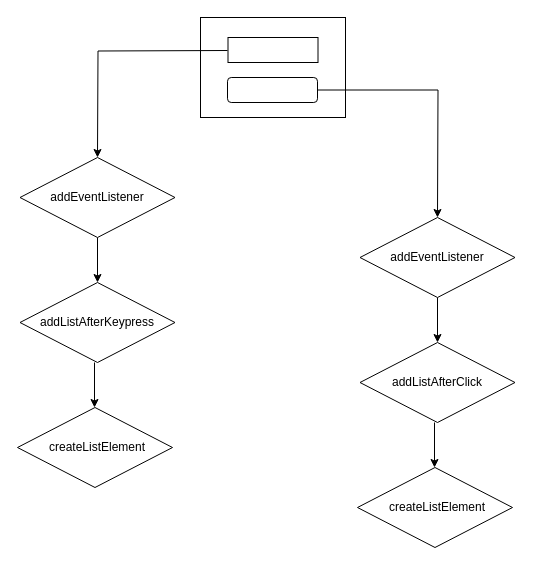
Some shapes in this 533 by 565 pixel diagram are drawn without their labels. Here are the shapes that lost their labels. From the top down, the box of each, then its label:
(227, 36, 318, 62): INPUT
(226, 76, 318, 102): BUTTON
